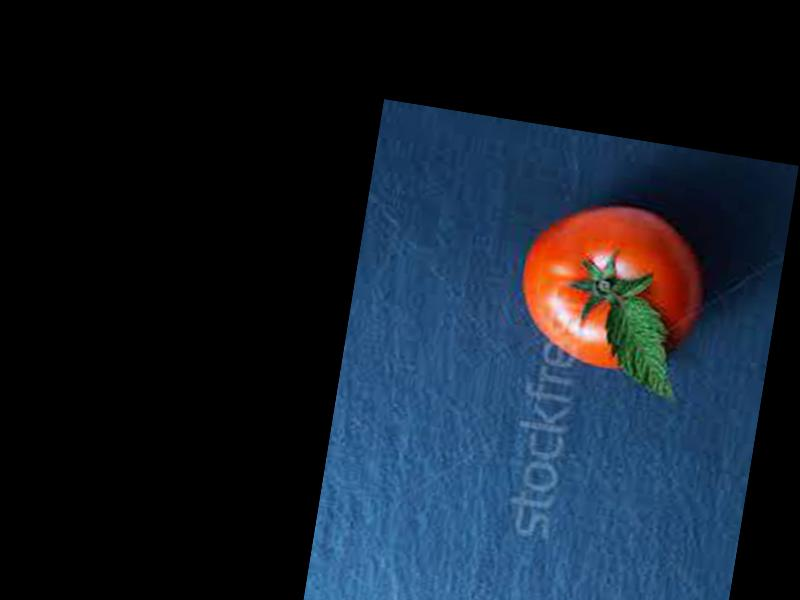Tomato: (510, 193, 711, 382)
